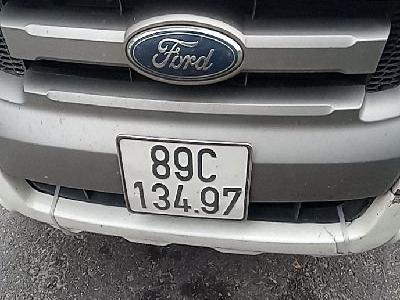lisence: (114, 133, 253, 223)
